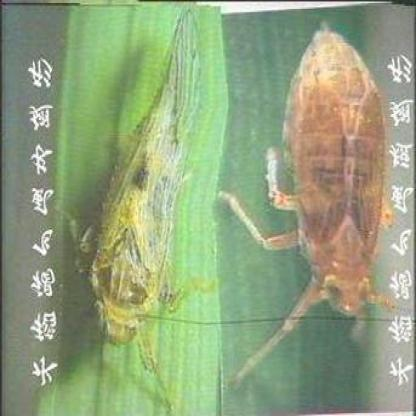brown-planthopper: (72, 6, 222, 354), (272, 12, 387, 338)
